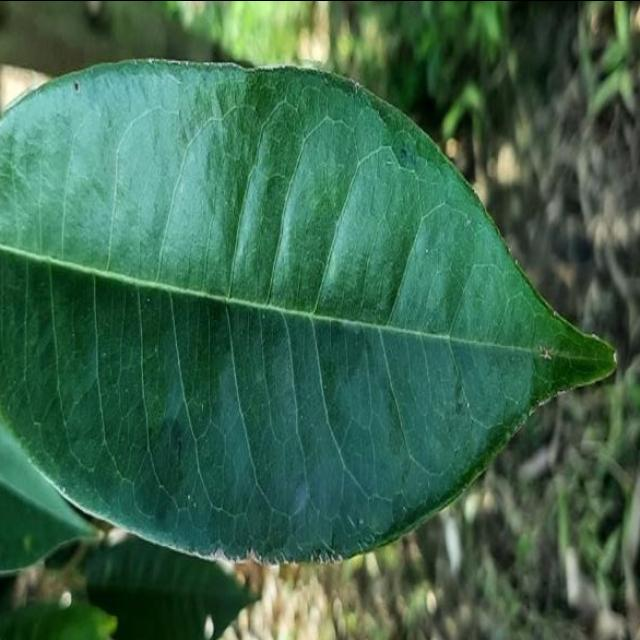No Disease: (0, 52, 627, 580)
